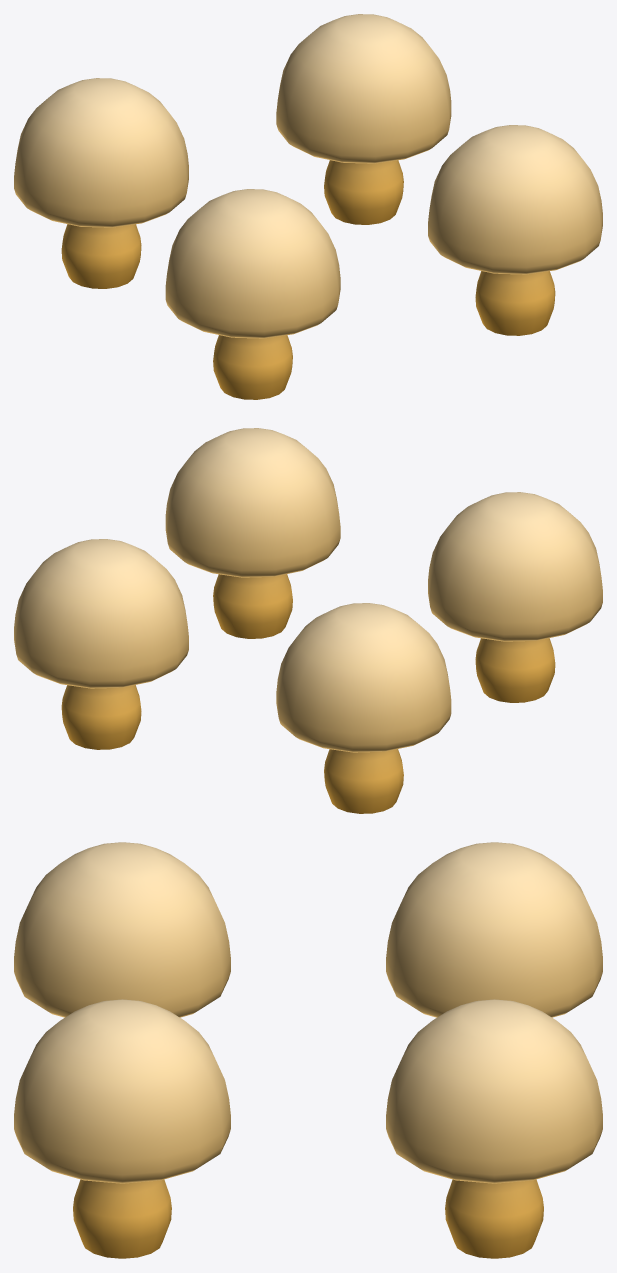
File: Farm_Crop_Mashroom_02_Step_03.fbx
3 views of the same model, one above another, from view 1: azimuth 30°, elevation 25°; view 2: azimuth 150°, elevation 25°; view 3: azimuth 270°, elevation 25° (orthographic). The views are drawn at different scales.
Parts seen in each view (by area): view 1: Farm_Crop_Mashroom_02_Step_03; view 2: Farm_Crop_Mashroom_02_Step_03; view 3: Farm_Crop_Mashroom_02_Step_03.
Boxes of the visible parts, box(x1,y1,x2,y2) form: Farm_Crop_Mashroom_02_Step_03: box(14, 14, 602, 399); Farm_Crop_Mashroom_02_Step_03: box(14, 428, 602, 813); Farm_Crop_Mashroom_02_Step_03: box(14, 842, 602, 1258).
Size of the model in its own units: 158 by 68.35 by 158.
